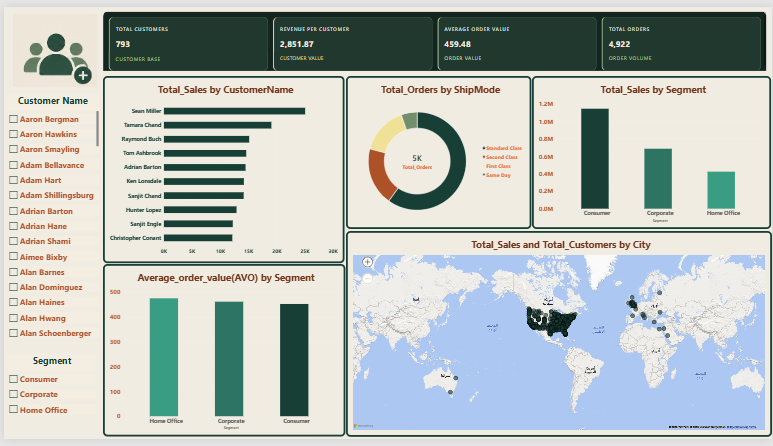

The page's visual inventory and layout, read from the dashboard file:
{"tool":"powerbi","page":{"name":"Customer Insight","canvas":[2560,1440],"ordinal":2},"visuals":[{"type":"barChart","fields":{"Category":["Customers.CustomerName"],"Y":["_Measures.Total_Sales"]},"box":[331.7,229.6,805,623.6],"z":0},{"type":"donutChart","fields":{"Category":["Orders.ShipMode"],"Y":["_Measures.Total_Orders"]},"box":[1139.5,229.6,618,510.2],"z":1000},{"type":"map","fields":{"Category":["Orders.City"]},"box":[1139.5,745.5,1420.2,686],"z":2000},{"type":"clusteredColumnChart","fields":{"Category":["Customers.Segment"],"Y":["_Measures.Total_Sales"]},"box":[1760.3,229.6,796.5,510.2],"z":3000},{"type":"clusteredColumnChart","fields":{"Category":["Customers.Segment"],"Y":["_Measures.Average_order_value(AVO)"]},"box":[331.7,856.1,807.9,575.4],"z":4000},{"type":"slicer","title":"Customer Name","fields":{"Values":["Customers.CustomerName"]},"box":[11.3,289.1,306.1,830.6],"z":5000},{"type":"slicer","title":"Segment","fields":{"Values":["Customers.Segment"]},"box":[11.3,1156.5,300.5,238.1],"z":6000},{"type":"htmlContent443BE3AD55E043BF878BED274D3A6855","fields":{"content":["Customers.EStore Customers HTML"]},"box":[311.8,0,2245,229.6],"z":7000},{"type":"image","box":[11.3,22.7,320.3,243.8],"z":8000}]}

Visuals, with their boxes in screenshot pixels (x1, y1, x2, y2), scaled from the page's 2560x1440 canvas onto the 773x446 screenshot:
barChart - Customers.CustomerName x _Measures.Total_Sales: region(100, 71, 343, 264)
donutChart - Orders.ShipMode x _Measures.Total_Orders: region(344, 71, 531, 229)
map - Orders.City: region(344, 231, 772, 443)
clusteredColumnChart - Customers.Segment x _Measures.Total_Sales: region(532, 71, 772, 229)
clusteredColumnChart - Customers.Segment x _Measures.Average_order_value(AVO): region(100, 265, 344, 443)
"Customer Name" slicer: region(3, 90, 96, 347)
"Segment" slicer: region(3, 358, 94, 432)
htmlContent443BE3AD55E043BF878BED274D3A6855 - Customers.EStore Customers HTML: region(94, 0, 772, 71)
image: region(3, 7, 100, 83)
